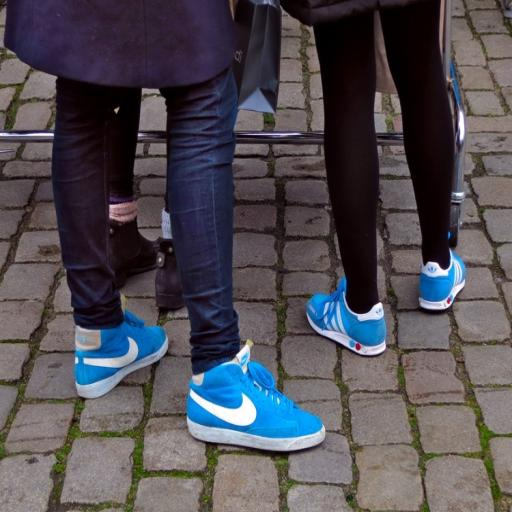shoe: (187, 342, 325, 452), (75, 310, 169, 398), (306, 277, 386, 356), (109, 218, 157, 288), (419, 251, 466, 310), (155, 239, 184, 310)
